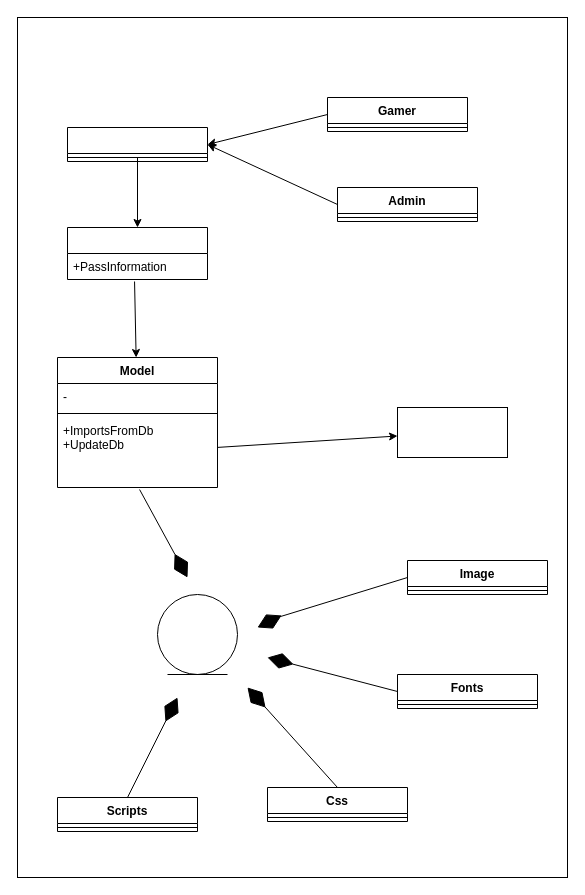
This 585x895 diagram has some shape labels left out. The shapes that lost their labels are listed below. From the top down, each one's box as (x1, y1, x2, y2) in pixels, then its label:
(66, 126, 208, 162): User
(66, 226, 208, 280): App
(396, 406, 508, 458): Data Base
(156, 594, 238, 674): Public
